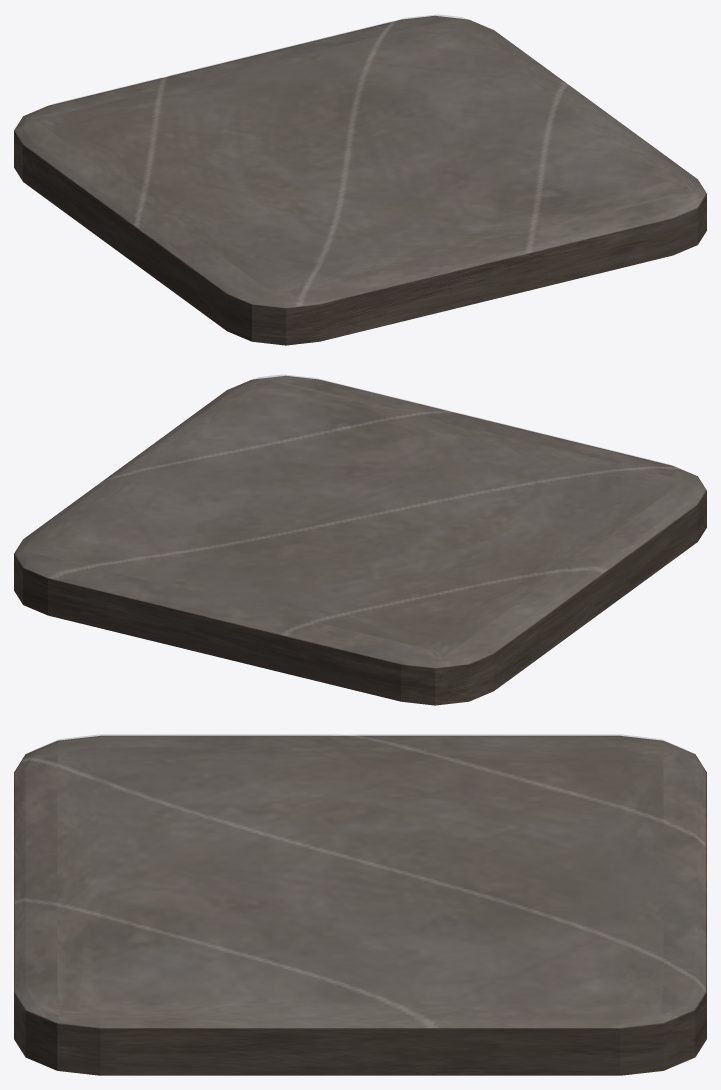
The picture shows the model from 3 angles, top to bottom: view 1: azimuth 30°, elevation 25°; view 2: azimuth 150°, elevation 25°; view 3: azimuth 270°, elevation 25°; orthographic projection. The views are drawn at different scales.
Parts seen in each view (by area): view 1: RuneStone01, Glass; view 2: RuneStone01, Glass; view 3: RuneStone01, Glass.
Part boxes in pixels (x1,y1,x2,y2): RuneStone01: (14,16,706,345); Glass: (15,14,705,307); RuneStone01: (14,376,706,705); Glass: (15,374,705,667); RuneStone01: (14,735,706,1075); Glass: (15,734,705,1027).
Size of the model in its own units: 2 by 0.2173 by 2.
2 materials, 1 textured.
